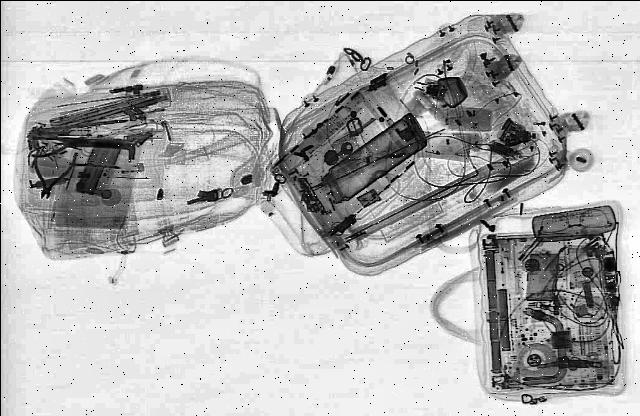Pliers: (26, 135, 84, 156)
